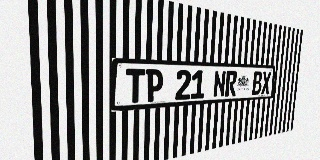1: (190, 70, 205, 99)
2: (175, 70, 191, 100)
B: (252, 71, 263, 95)
N: (213, 70, 226, 98)
P: (145, 69, 163, 102)
R: (225, 71, 237, 97)
T: (126, 69, 145, 103)
X: (261, 71, 271, 94)
